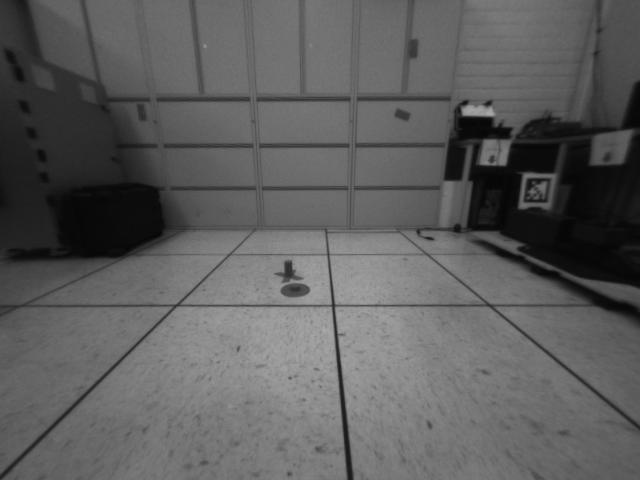X: (274, 260, 303, 284)
